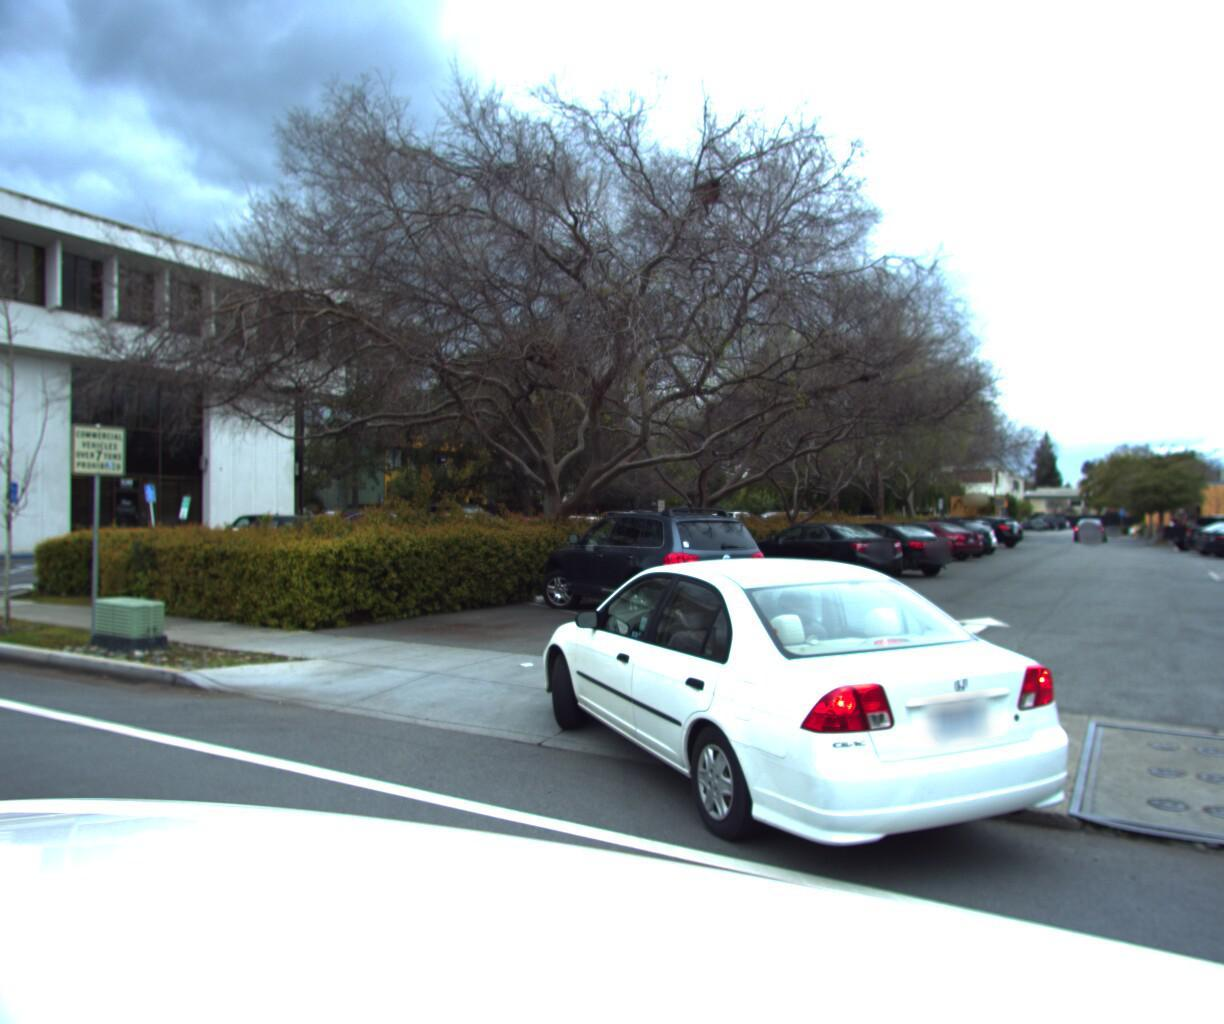car: (510, 524, 1106, 923), (537, 505, 780, 635), (303, 506, 492, 581)
